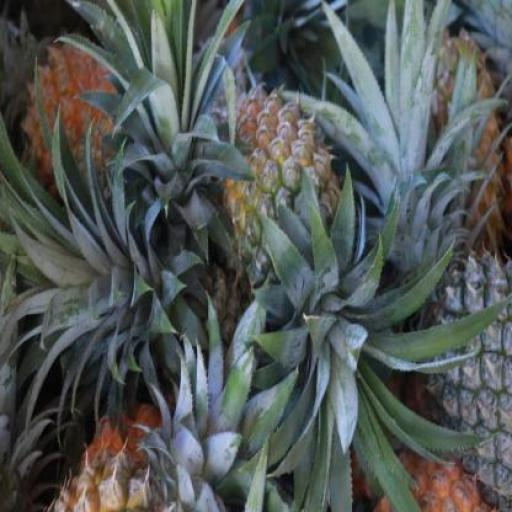------------------------------: (210, 84, 350, 295)
